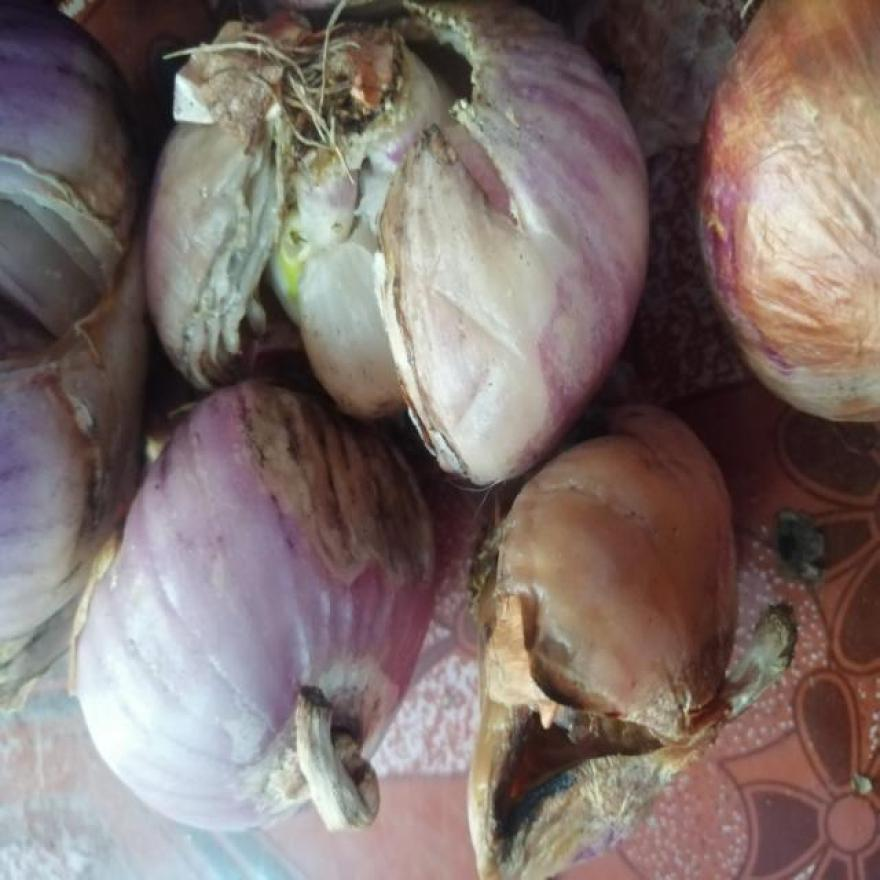Rotten: (251, 158, 406, 414), (469, 670, 664, 851), (237, 398, 430, 574)
